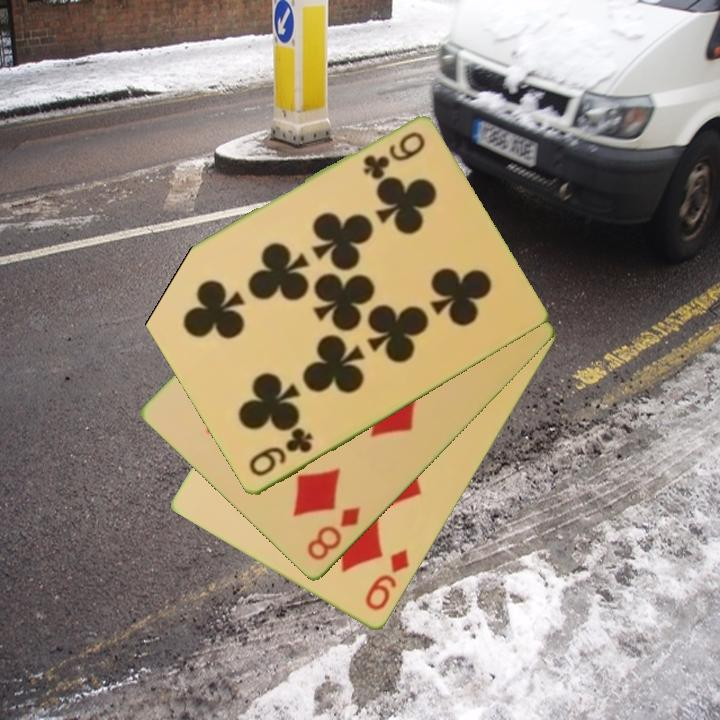8d: (303, 504, 364, 564)
9c: (245, 425, 316, 481), (359, 128, 428, 182)
9d: (361, 546, 413, 615)
